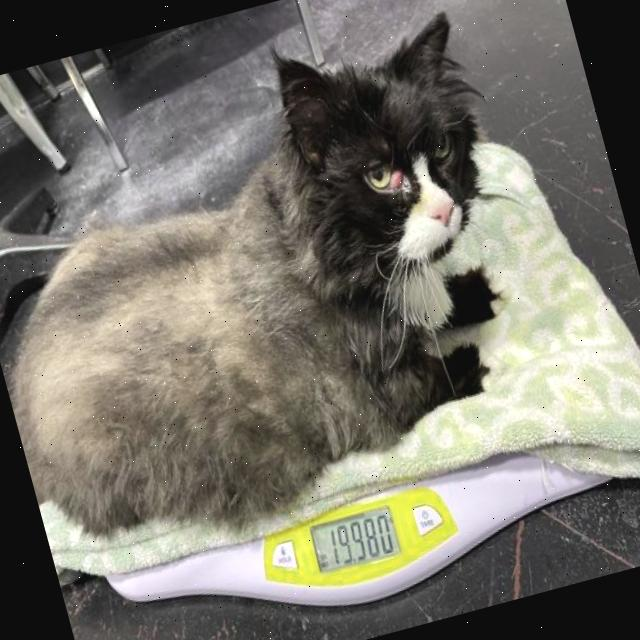persian_cat: (248, 0, 514, 300)
